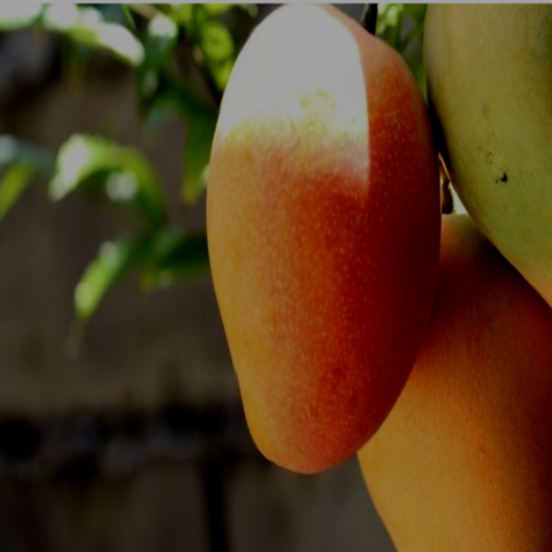mango: (185, 1, 474, 520)
